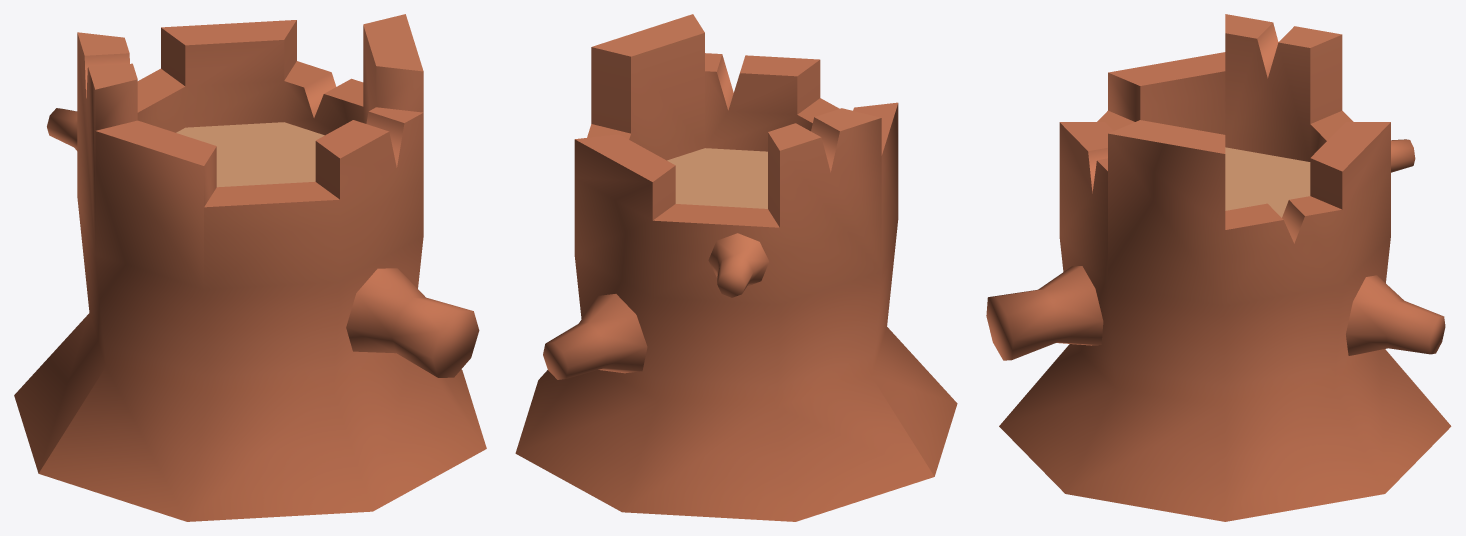
The model's file is trunk.glb.
3 renders of one model, left to right at view 1: azimuth 30°, elevation 25°; view 2: azimuth 150°, elevation 25°; view 3: azimuth 270°, elevation 25°, orthographic. The views are drawn at different scales.
Visible parts, largest first — view 1: trunk; view 2: trunk; view 3: trunk.
Part boxes in pixels (x1=…): trunk: x1=14, y1=14, x2=486, y2=521; trunk: x1=515, y1=14, x2=957, y2=521; trunk: x1=986, y1=14, x2=1451, y2=521.
Bounding box in the file's own units: 0.5393 × 0.45 × 0.5542.
1 material, 1 textured.
